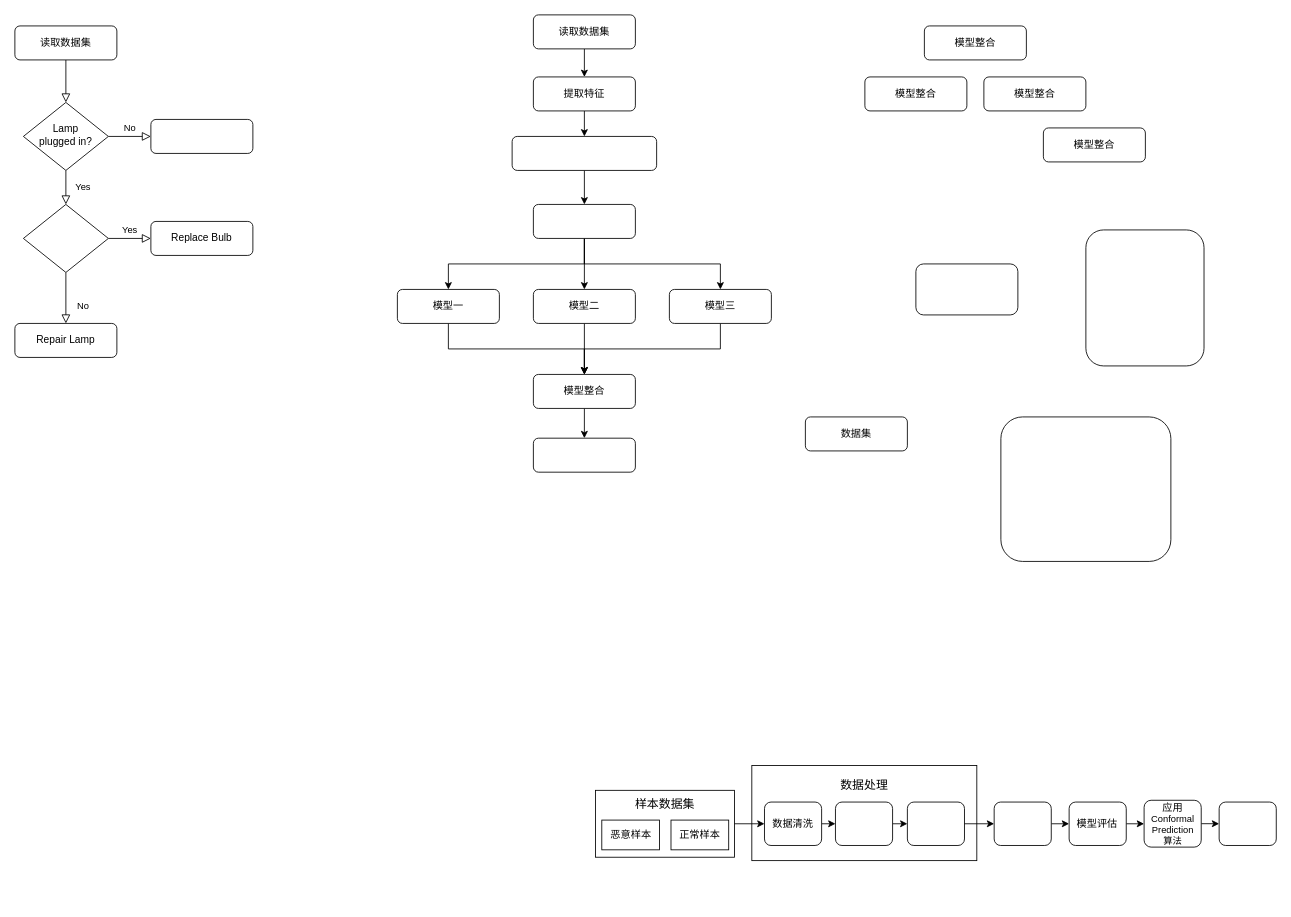
Some shapes in this 1291 by 917 pixel diagram are drawn without their labels. The shapes that lost their labels are listed below. From the top down, each one's centre as x and y in pixels, then its label:
At (201,136): "Plug in lamp".
At (584,153): "划分数据集： 测试集、训练集、校准集".
At (65,238): "Bulb burned out?".
At (584,221): "使用训练集训练模型".
At (584,454): "评估模型".
At (864,823): "特征选择".
At (935,823): "特征处理".
At (1022,823): "模型训练".
At (1247,823): "性能对比".
